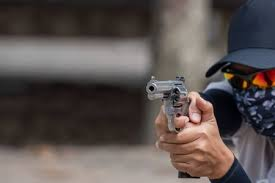gun: (145, 74, 205, 154)
